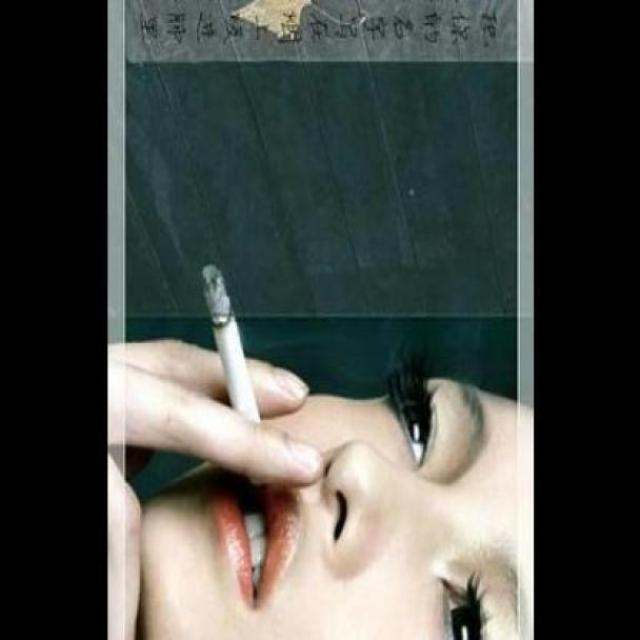rokok: (202, 258, 274, 484)
